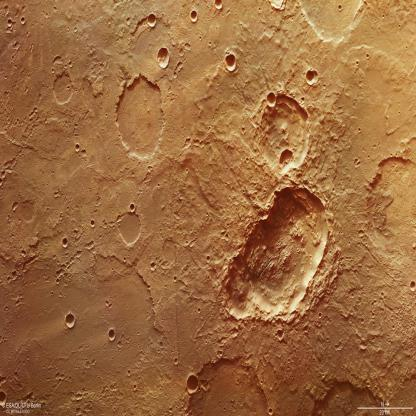craters: (220, 174, 329, 328), (173, 340, 287, 416), (359, 153, 416, 289), (246, 78, 318, 183), (107, 70, 168, 165), (302, 366, 392, 416), (45, 57, 81, 118), (105, 206, 151, 247), (14, 190, 51, 236), (0, 6, 31, 41), (271, 146, 299, 174), (257, 0, 291, 21), (60, 301, 78, 335), (223, 45, 242, 77), (184, 369, 203, 400), (150, 49, 176, 70), (202, 0, 228, 17), (304, 65, 322, 87), (271, 326, 291, 345), (263, 90, 279, 111), (106, 323, 122, 343), (331, 0, 349, 17), (405, 273, 416, 299), (145, 16, 162, 32), (187, 8, 202, 25), (103, 295, 115, 313), (60, 234, 70, 254), (172, 353, 182, 373)
